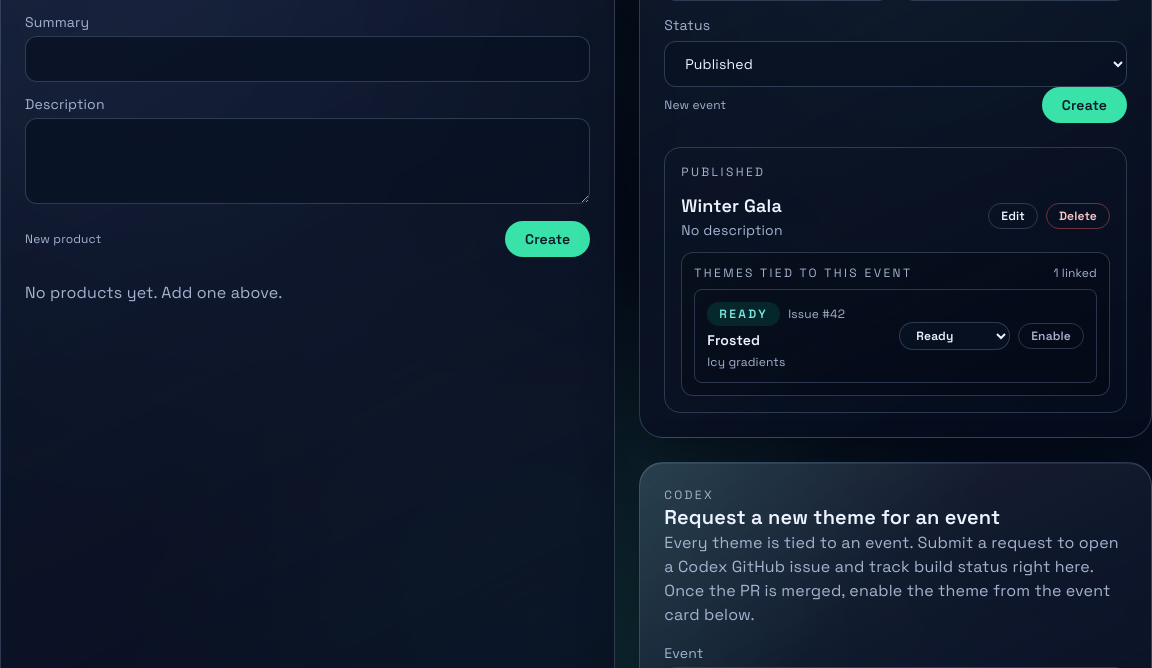
Test: AdminDashboard themes › allows enabling and disabling a theme from the event card
(page scrolled)
Click the button "Enable".
click(1051, 336)  # box [1018, 323, 1084, 349]
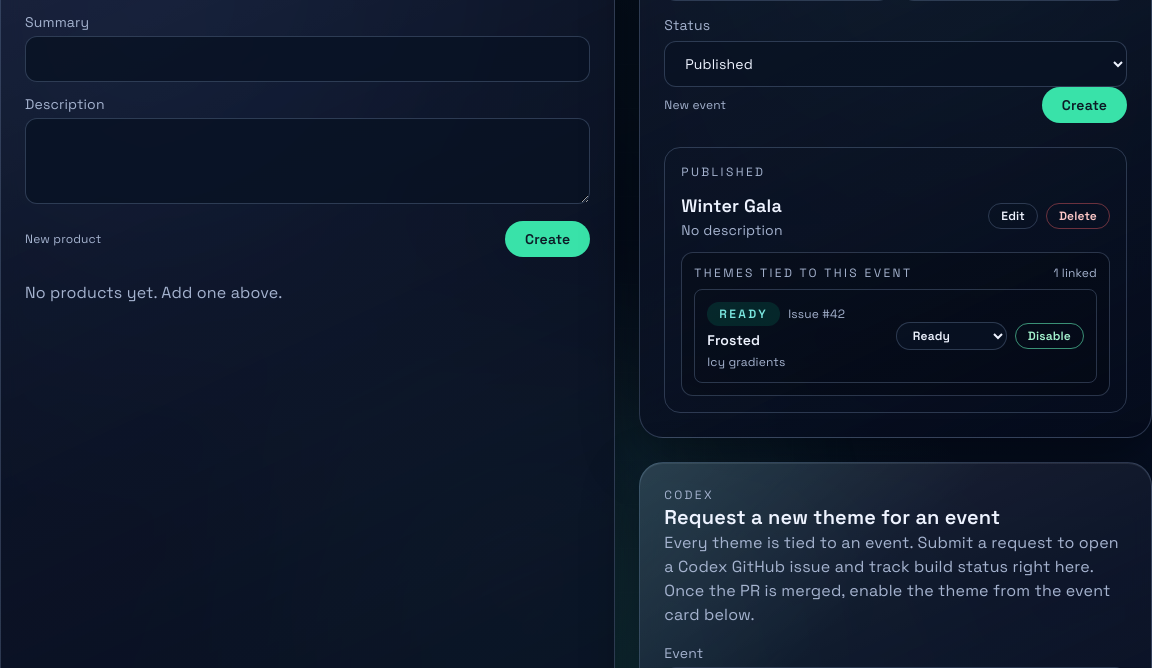
Expected: the button "Disable" is shown
Click the button "Disable".
click(1049, 336)  # box [1015, 323, 1084, 349]
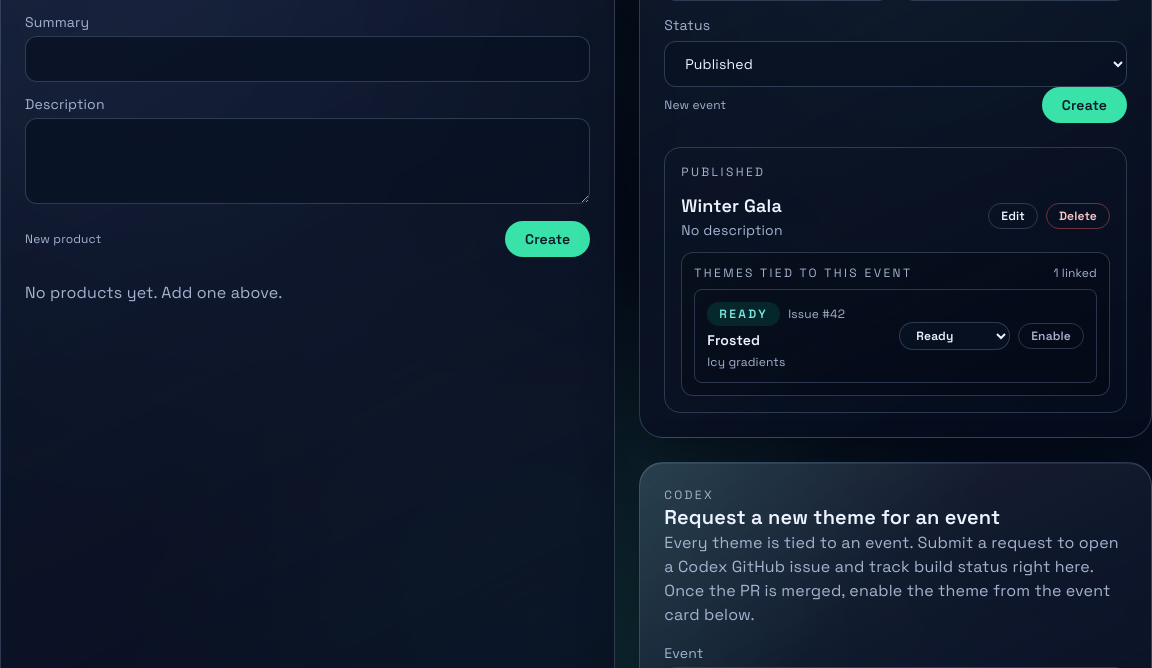
Expected: the button "Enable" is shown, [1018, 323, 1084, 349]
